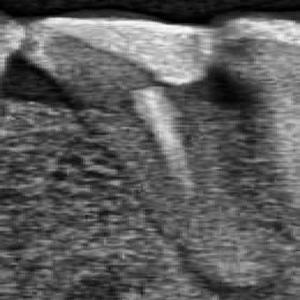tooth: (24, 16, 221, 249)
